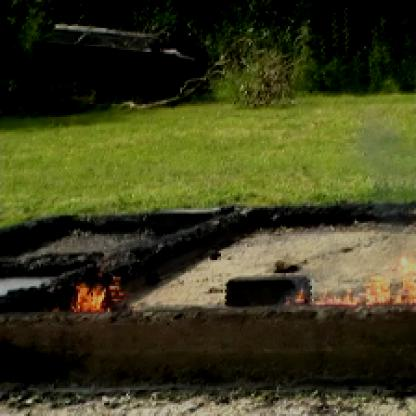Fire: (286, 256, 414, 310), (60, 275, 127, 312)
Smoke: (357, 56, 414, 258)
